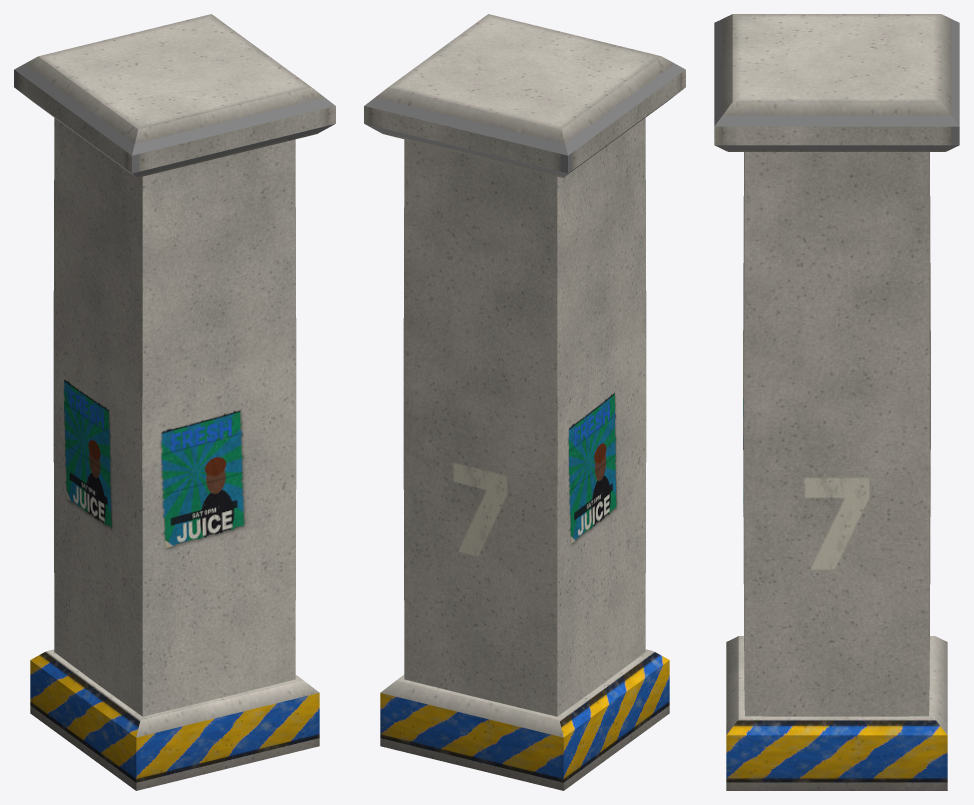
File: env_wall_corner-BLWRznwn.glb
3 renders of one model, left to right at view 1: azimuth 30°, elevation 25°; view 2: azimuth 150°, elevation 25°; view 3: azimuth 270°, elevation 25°, orthographic. The views are drawn at different scales.
Visible parts, largest first — view 1: env_wall_corner_body; view 2: env_wall_corner_body; view 3: env_wall_corner_body.
Part boxes in pixels (x1,y1,x2,y2): env_wall_corner_body: (14,14,335,790); env_wall_corner_body: (364,14,685,790); env_wall_corner_body: (714,14,959,790).
Bounding box in the file's own units: 0.6 × 1.85 × 0.6.
1 material, 1 textured.
